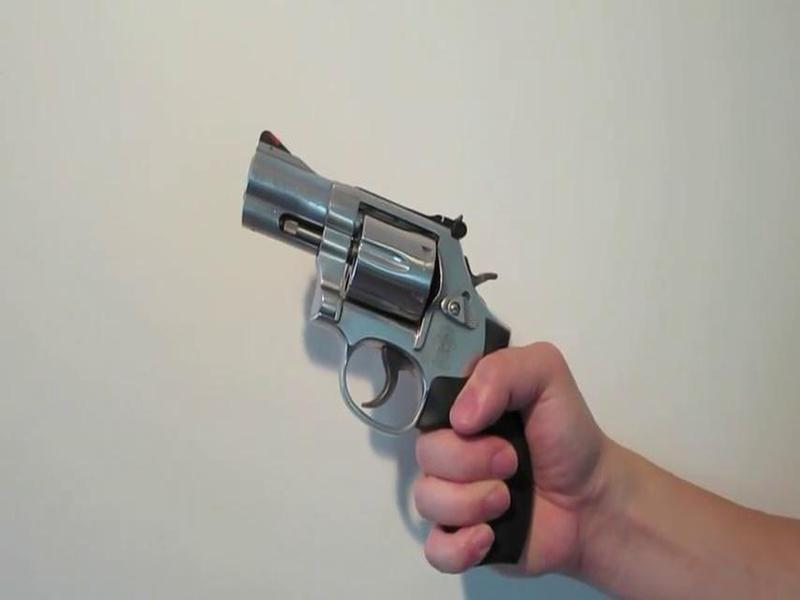Revolver: (217, 109, 599, 577)
